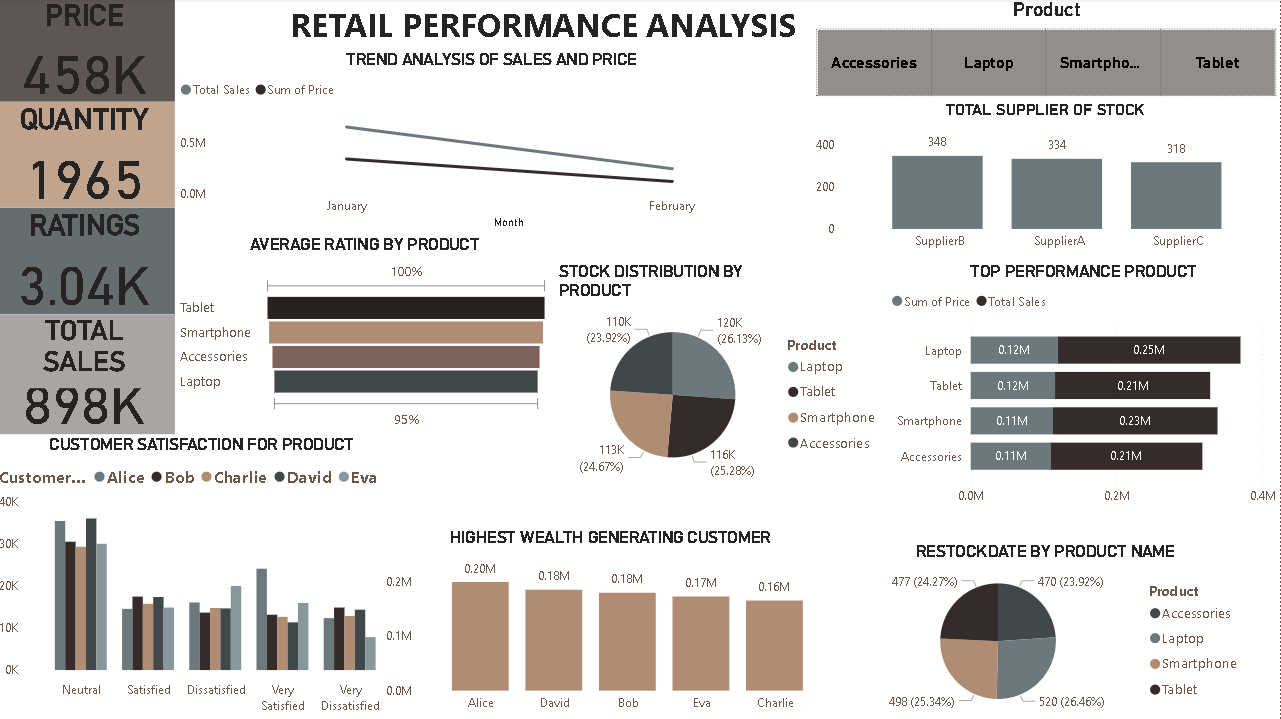

What the dashboard file says about the page in this screenshot:
{"tool":"powerbi","page":{"name":"Page 1","canvas":[1280,720],"ordinal":0},"visuals":[{"type":"card","title":"PRICE","fields":{"Values":["Sales Data.Price"]},"box":[0,0,180,102.9],"z":0},{"type":"card","title":"QUANTITY","fields":{"Values":["Sales Data.Quantity"]},"box":[0,102.9,180,105.5],"z":1000},{"type":"card","title":"RATINGS","fields":{"Values":["Customer Feedback.Rating"]},"box":[0,208.4,180,105.5],"z":2000},{"type":"advancedSlicerVisual","fields":{"Values":["Sales Data.Product"]},"box":[813.1,0,467.3,102.9],"z":3000},{"type":"card","title":"TOTAL SALES","fields":{"Values":["Customer Feedback.Total Sales"]},"box":[0,314.4,179.8,119.8],"z":4000},{"type":"lineClusteredColumnComboChart","title":"CUSTOMER SATISFACTION FOR PRODUCT","fields":{"Category":["Customer Feedback.Feedback"],"Series":["Sales Data.CustomerName"],"Y":["Sales Data.Price"]},"box":[0,434.2,413.6,285.9],"z":5000},{"type":"columnChart","title":"HIGHEST WEALTH GENERATING CUSTOMER","fields":{"Category":["Sales Data.CustomerName"],"Y":["Customer Feedback.Total Sales"]},"box":[385.7,526.7,455.8,193.3],"z":6000},{"type":"pieChart","title":"STOCK DISTRIBUTION BY  PRODUCT","fields":{"Y":["Sales Data.Price"],"Category":["Sales Data.Product"]},"box":[557.7,261.6,330.7,226.1],"z":7000},{"type":"textbox","box":[283.7,0,525.8,59.4],"z":8000},{"type":"funnel","title":"AVERAGE RATING BY PRODUCT","fields":{"Y":["Customer Feedback.Rating"],"Category":["Sales Data.Product"]},"box":[180,235,377.7,199.5],"z":9000},{"type":"lineChart","title":"TREND ANALYSIS OF SALES  AND PRICE","fields":{"Category":["Sales Data.OrderDate.Variation.Date Hierarchy.Month"],"Y":["Customer Feedback.Total Sales","Sales Data.Price"]},"box":[180,51.4,629.6,183.5],"z":10000},{"type":"barChart","title":"TOP PERFORMANCE PRODUCT","fields":{"Category":["Sales Data.Product"],"Y":["Sales Data.Price","Customer Feedback.Total Sales"]},"box":[888.5,261.6,391.9,252.7],"z":11000},{"type":"pieChart","title":"RESTOCKDATE BY PRODUCT NAME","fields":{"Category":["Sales Data.Product","Inventory Data.RestockDate.Variation.Date Hierarchy.Year","Inventory Data.RestockDate.Variation.Date Hierarchy.Quarter","Inventory Data.RestockDate.Variation.Date Hierarchy.Month","Inventory Data.RestockDate.Variation.Date Hierarchy.Day"],"Y":["Sales Data.Quantity"]},"box":[845,540,403.4,180],"z":12000},{"type":"columnChart","title":"TOTAL SUPPLIER OF STOCK ","fields":{"Category":["Inventory Data.Supplier"],"Y":["Inventory Data.Supplier"]},"box":[813.1,102.5,465.7,158],"z":13001}]}

Visuals, with their boxes in screenshot pixels (x1, y1, x2, y2), scaled from the page's 1280x720 canvas onto the 1281x719 screenshot:
"PRICE" card: box=[0, 0, 180, 103]
"QUANTITY" card: box=[0, 103, 180, 208]
"RATINGS" card: box=[0, 208, 180, 313]
advancedSlicerVisual - Sales Data.Product: box=[814, 0, 1280, 103]
"TOTAL SALES" card: box=[0, 314, 180, 434]
"CUSTOMER SATISFACTION FOR PRODUCT" lineClusteredColumnComboChart: box=[0, 434, 414, 718]
"HIGHEST WEALTH GENERATING CUSTOMER" columnChart: box=[386, 526, 842, 718]
"STOCK DISTRIBUTION BY  PRODUCT" pieChart: box=[558, 261, 889, 487]
textbox: box=[284, 0, 810, 59]
"AVERAGE RATING BY PRODUCT" funnel: box=[180, 235, 558, 434]
"TREND ANALYSIS OF SALES  AND PRICE" lineChart: box=[180, 51, 810, 235]
"TOP PERFORMANCE PRODUCT" barChart: box=[889, 261, 1280, 514]
"RESTOCKDATE BY PRODUCT NAME" pieChart: box=[846, 539, 1249, 718]
"TOTAL SUPPLIER OF STOCK " columnChart: box=[814, 102, 1280, 260]
